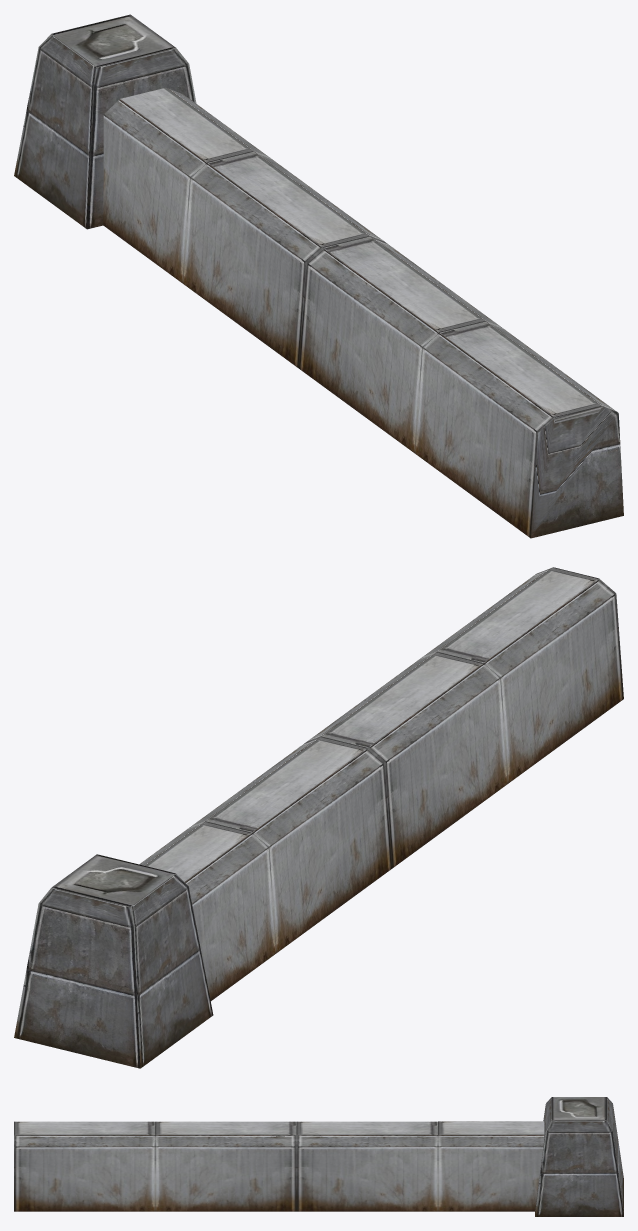
File: s_lightwall_hdtex.glb
3 renders of one model, top to bottom at view 1: azimuth 30°, elevation 25°; view 2: azimuth 150°, elevation 25°; view 3: azimuth 270°, elevation 25°, orthographic. The views are drawn at different scales.
Visible parts, largest first — view 1: S_LightWall; view 2: S_LightWall; view 3: S_LightWall.
Part boxes in pixels (left/top/right/bottom): S_LightWall: left=14, top=14, right=623, bottom=538; S_LightWall: left=14, top=567, right=623, bottom=1068; S_LightWall: left=14, top=1097, right=623, bottom=1216.
Size of the model in its own units: 4.03 by 4.46 by 27.62.
1 material, 1 textured.
